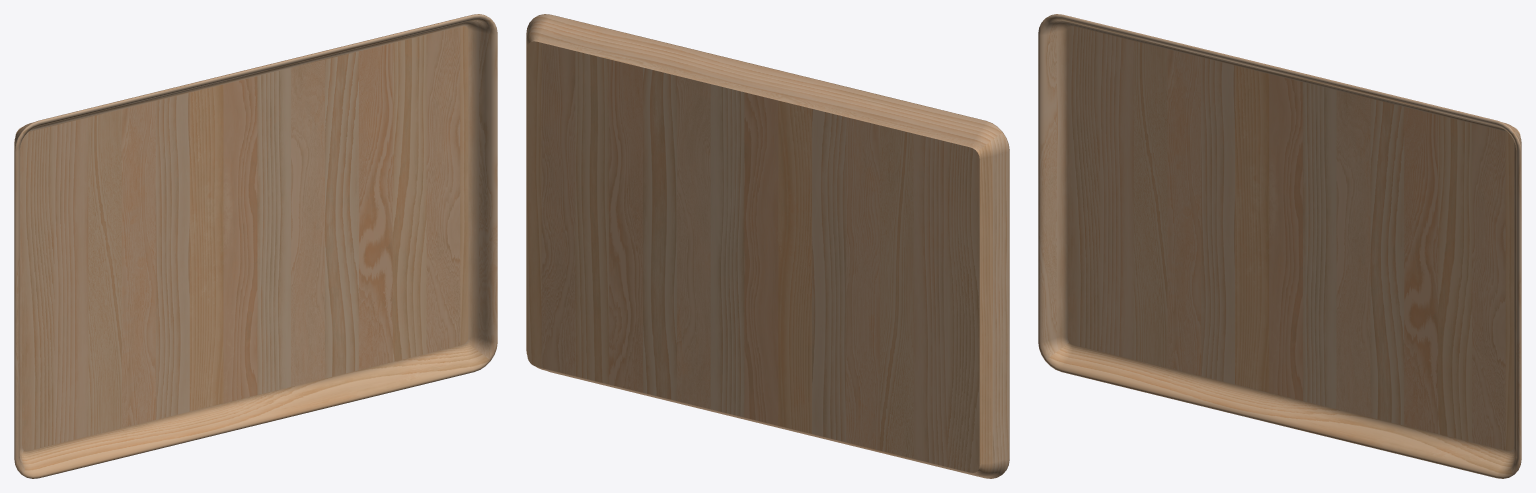
3 renders of one model, left to right at view 1: azimuth 30°, elevation 25°; view 2: azimuth 150°, elevation 25°; view 3: azimuth 330°, elevation 25°, orthographic.
Size of the model in its own units: 1 by 0.7065 by 0.0543.
